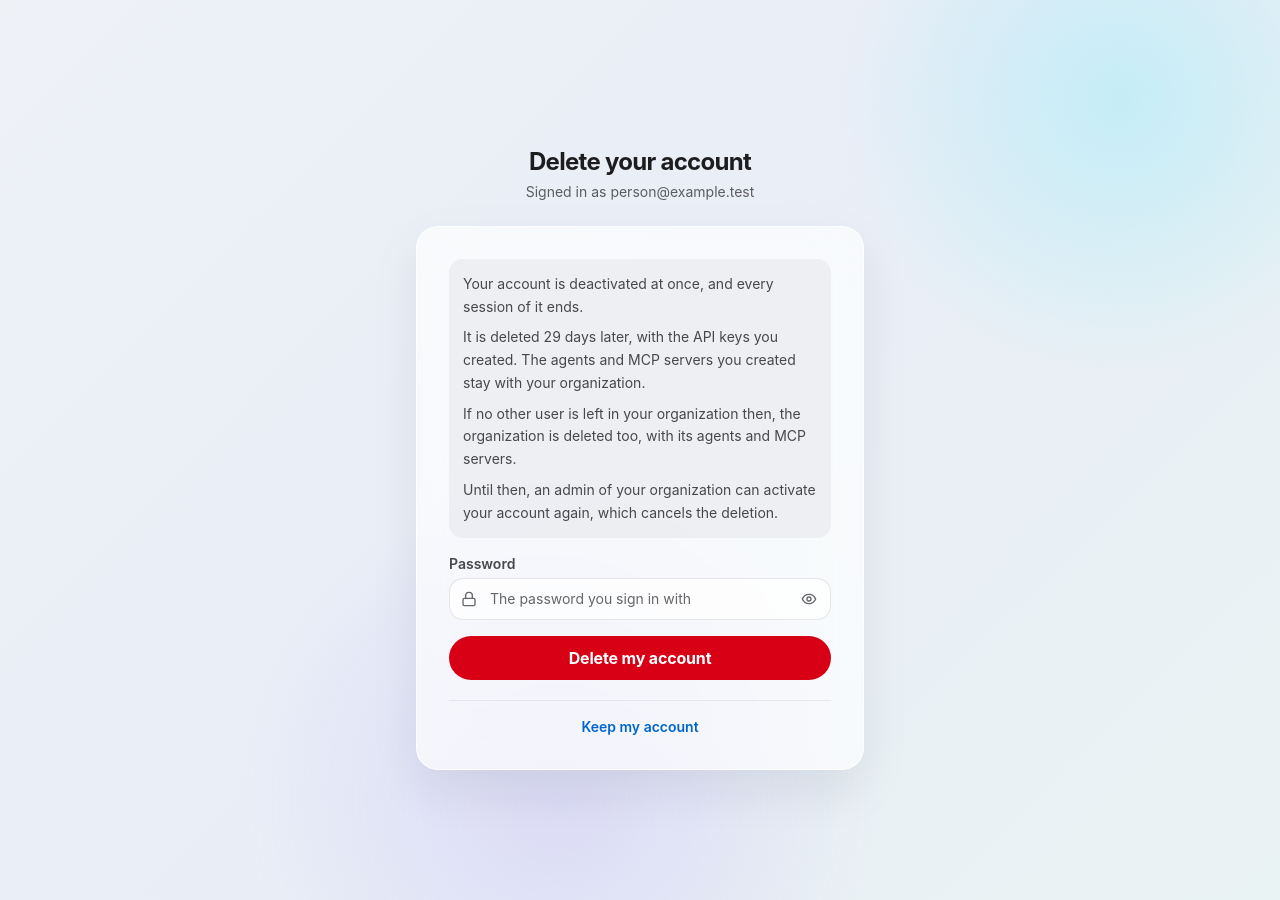
delete account page › says the session has ended when the client signed it out
Type "not-a-real-password" into the password field labelled "Password" at coordinates (640, 599), box [449,578,831,620]
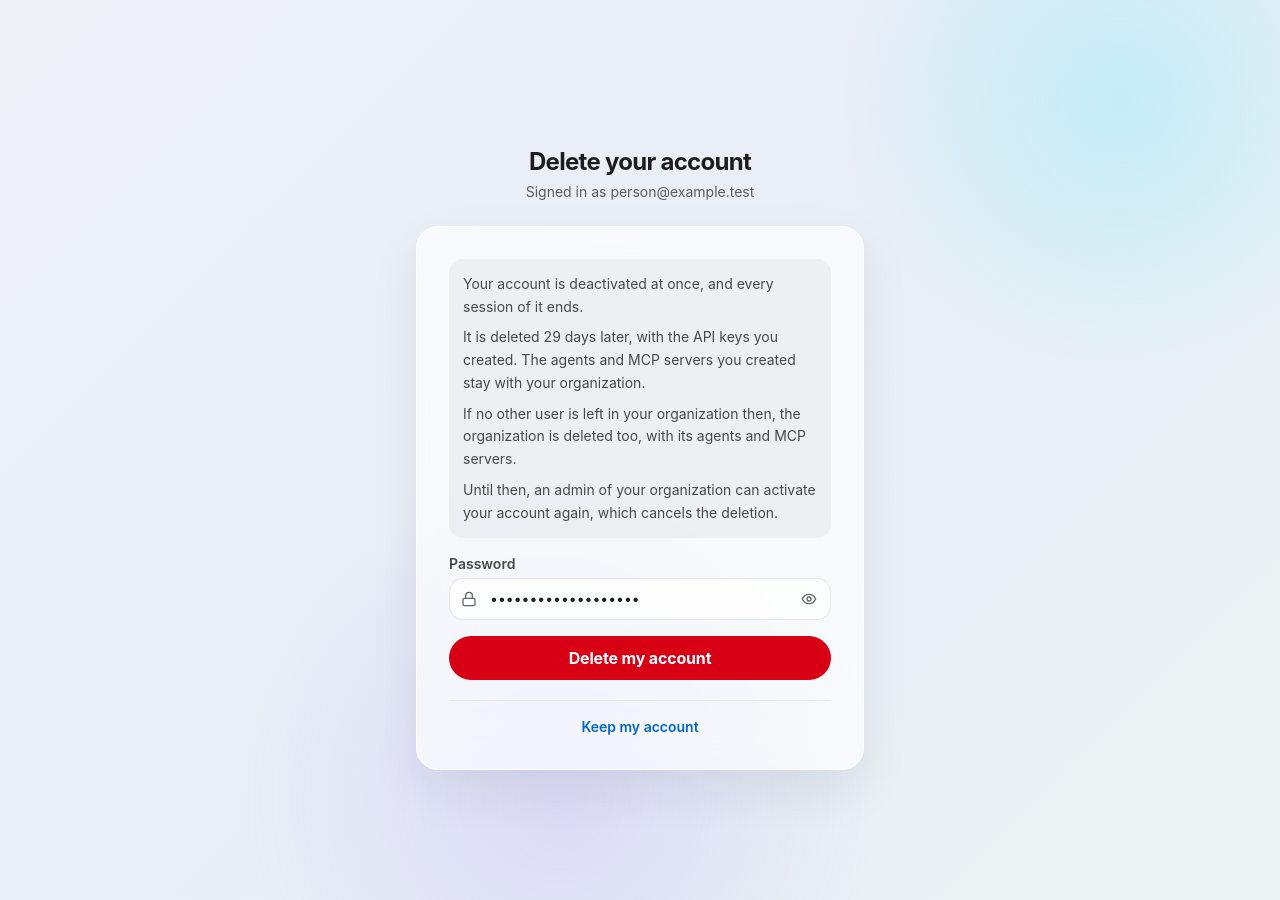
Click the button "Delete my account" at coordinates (640, 658), box [449,636,831,680]
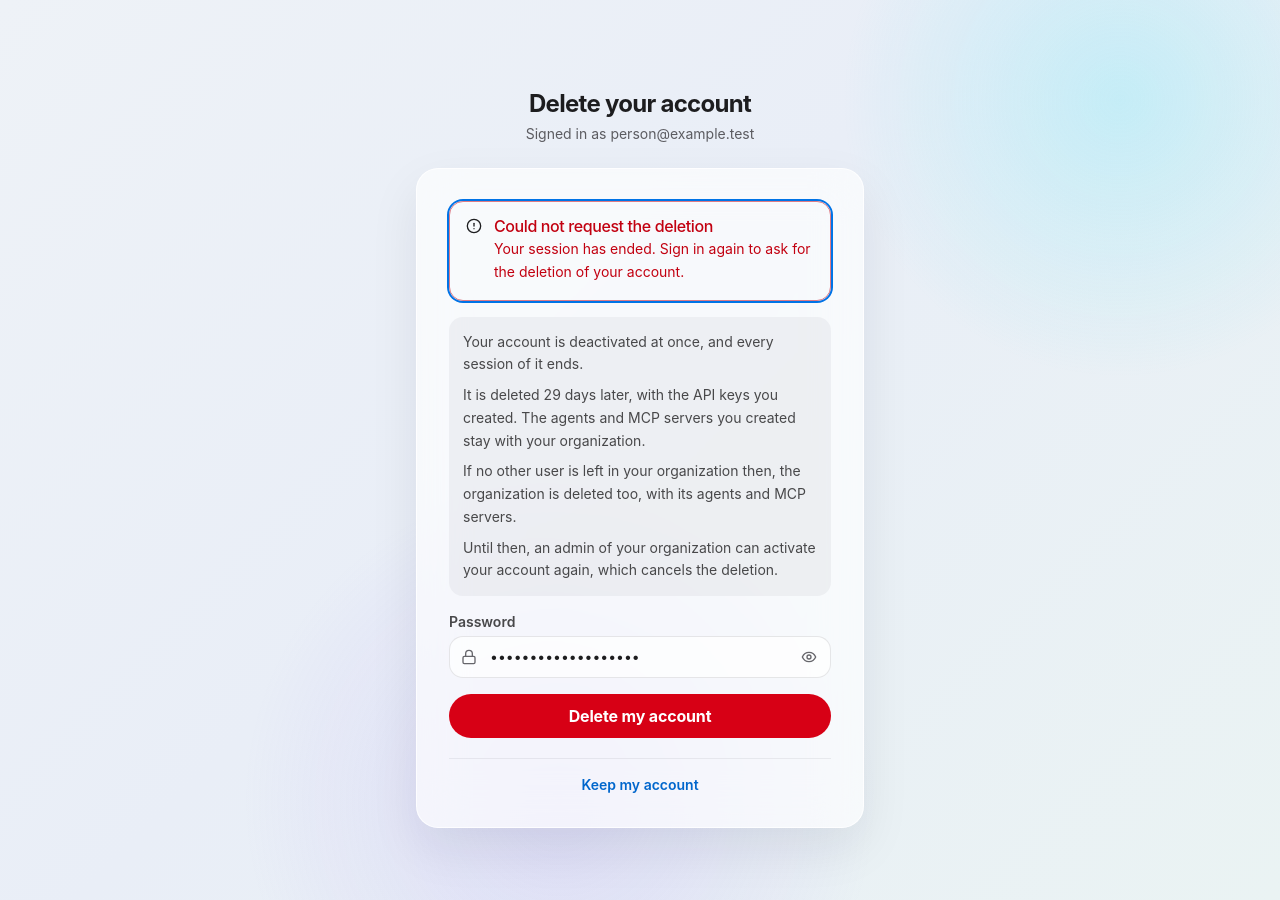
Expected: the text "Your session has ended. Sign in again to ask for the deletion of your account." is shown, [494,238,814,284]
